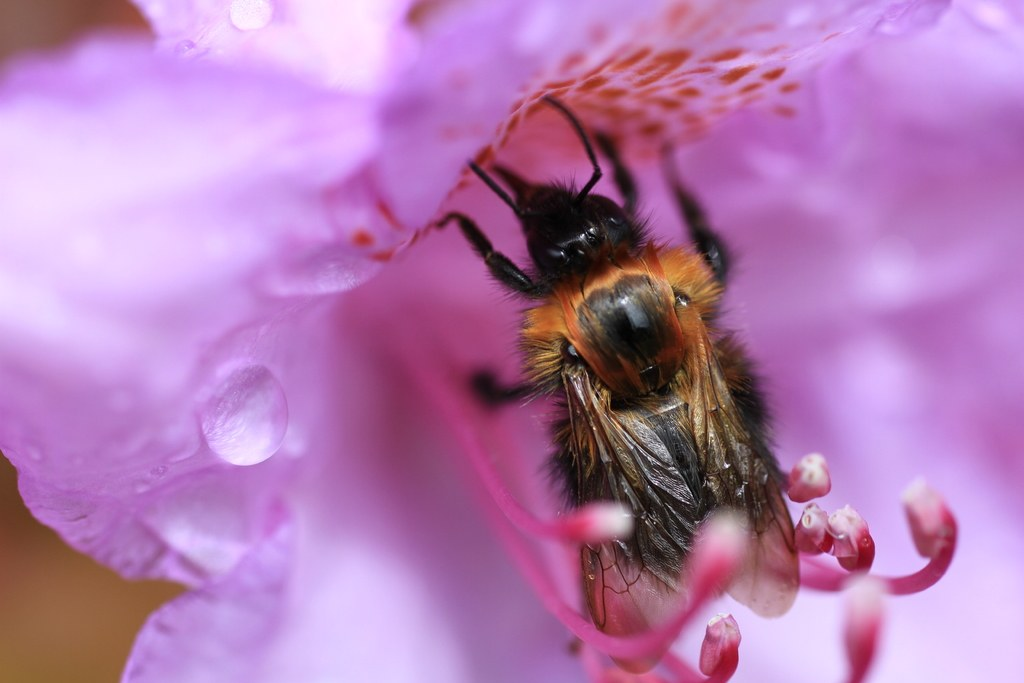bee: (434, 95, 802, 675)
